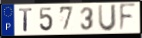3: (79, 7, 95, 32)
5: (39, 7, 55, 33)
7: (59, 6, 75, 33)
F: (119, 2, 138, 33)
T: (18, 7, 34, 33)
U: (97, 4, 118, 33)
